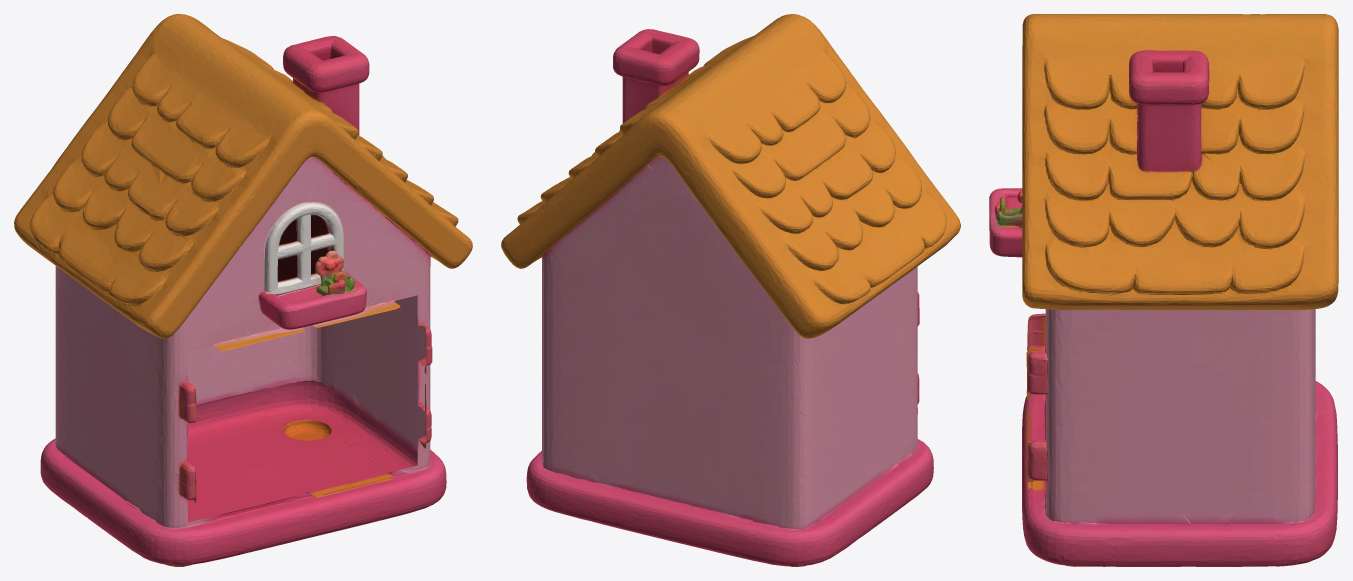
Rendered from body.glb.
The picture shows the model from 3 angles, left to right: view 1: azimuth 30°, elevation 25°; view 2: azimuth 150°, elevation 25°; view 3: azimuth 270°, elevation 25°; orthographic projection. The views are drawn at different scales.
Parts seen in each view (by area): view 1: source_surface_0; view 2: source_surface_0; view 3: source_surface_0.
Part boxes in pixels (left/top/right/bottom): source_surface_0: left=14, top=14, right=472, bottom=566; source_surface_0: left=501, top=14, right=960, bottom=566; source_surface_0: left=989, top=14, right=1338, bottom=566.
Bounding box in the file's own units: 0.1774 × 0.22 × 0.1444.
Materials: 1 (1 with a texture image).
